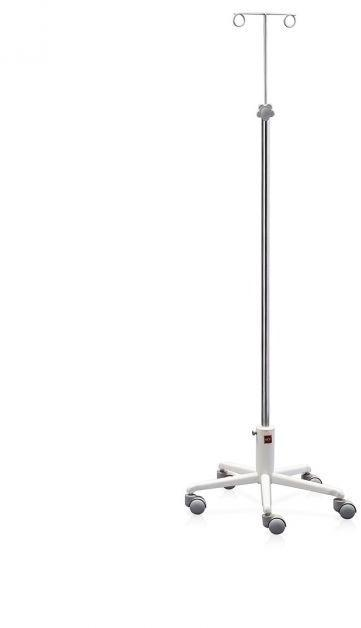Saline Stand: (182, 9, 356, 534)
